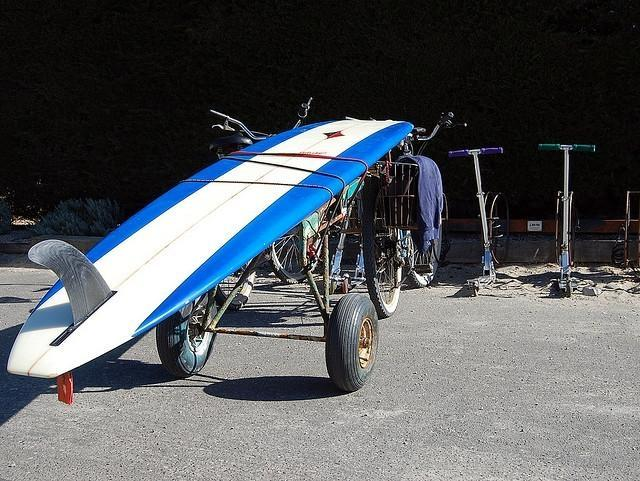bicycle: (356, 105, 469, 318), (534, 142, 600, 300)
